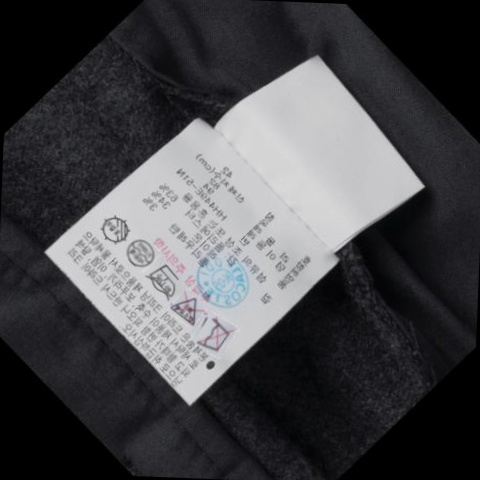DN_bleach: (169, 295, 202, 327)
DN_wash: (199, 319, 230, 355)
dry_clean_petrol_only: (121, 235, 155, 272)
iron_low: (145, 263, 178, 300)
line_dry_in_shade: (96, 211, 132, 243)
